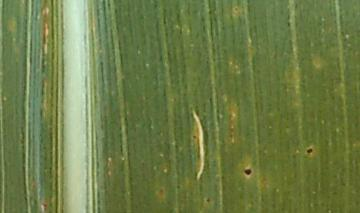tarspot: (242, 164, 254, 179), (304, 144, 315, 157), (156, 187, 167, 197), (204, 196, 214, 204), (174, 183, 183, 190)
